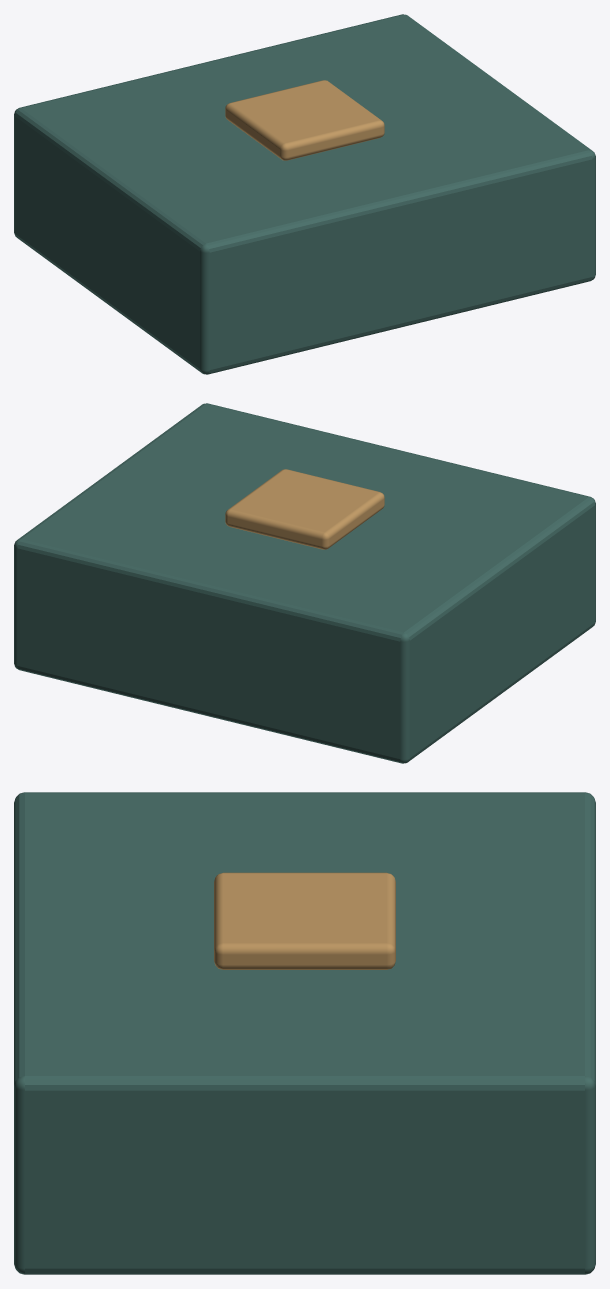
Rendered from socket.glb.
3 views of the same model, one above another, from view 1: azimuth 30°, elevation 25°; view 2: azimuth 150°, elevation 25°; view 3: azimuth 270°, elevation 25° (orthographic). The views are drawn at different scales.
Parts seen in each view (by area): view 1: socket; view 2: socket; view 3: socket.
Part boxes in pixels (<box>): socket: <box>14,14,595,374</box>; socket: <box>14,403,595,763</box>; socket: <box>14,792,595,1274</box>.
Bounding box in the file's own units: 0.019 × 0.0068 × 0.016.
